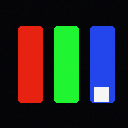1 square: (94, 87, 108, 101)
